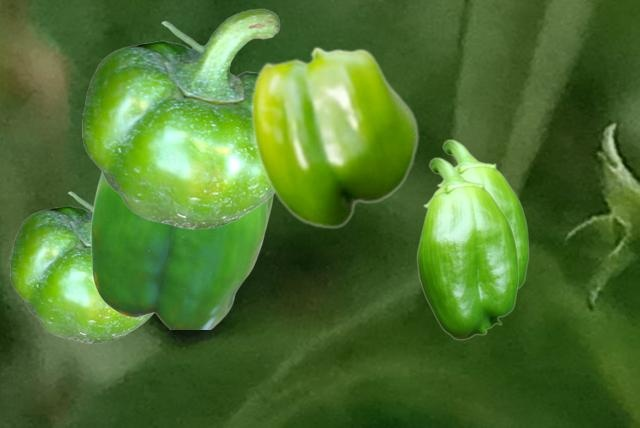bell_pepper: (82, 8, 282, 228), (251, 46, 418, 228), (90, 173, 273, 328), (10, 191, 153, 342), (416, 157, 518, 339), (436, 139, 528, 288)
